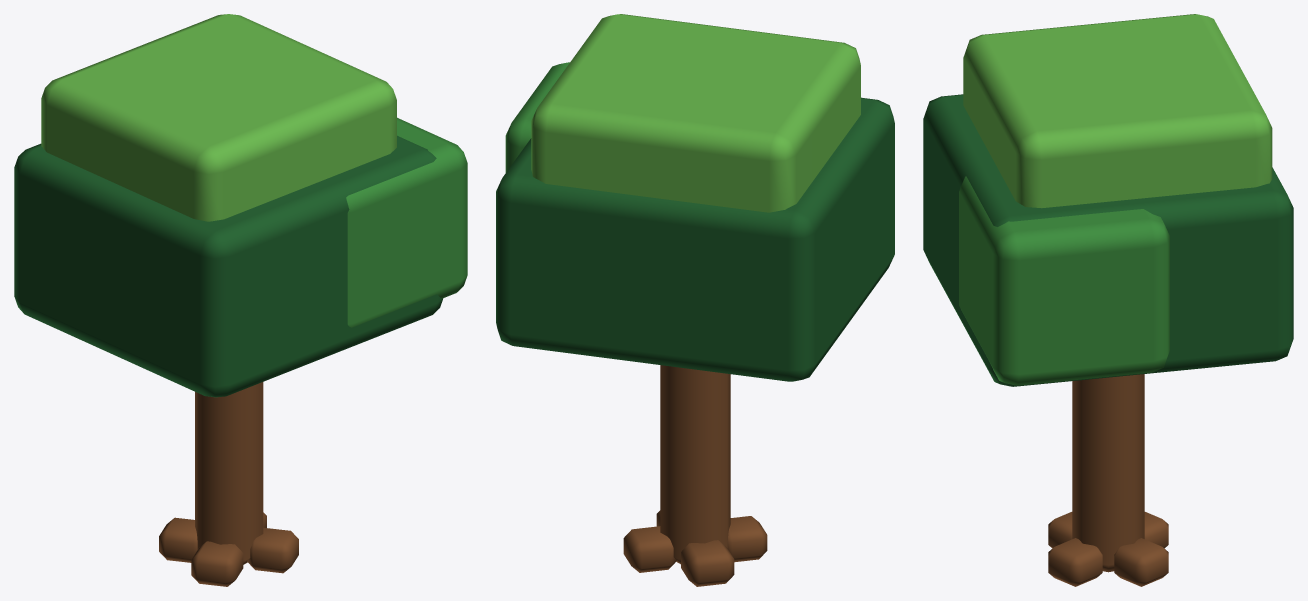
File: Nature__tree.glb
3 renders of one model, left to right at view 1: azimuth 30°, elevation 25°; view 2: azimuth 150°, elevation 25°; view 3: azimuth 270°, elevation 25°, orthographic. The views are drawn at different scales.
Parts seen in each view (by area): view 1: tree_mesh; view 2: tree_mesh; view 3: tree_mesh.
Boxes of the visible parts, x1=… form: tree_mesh: x1=14, y1=14, x2=467, y2=586; tree_mesh: x1=496, y1=14, x2=894, y2=586; tree_mesh: x1=923, y1=14, x2=1293, y2=586.
Size of the model in its own units: 1.32 by 1.72 by 1.18.
